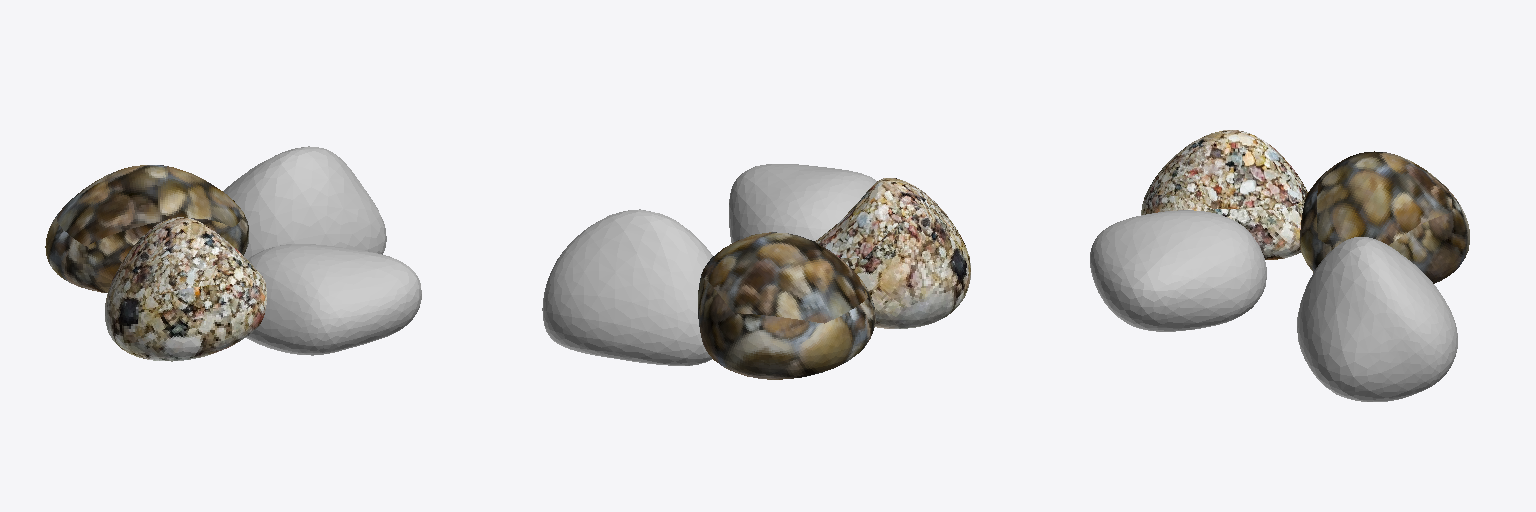
3 renders of one model, left to right at view 1: azimuth 30°, elevation 25°; view 2: azimuth 150°, elevation 25°; view 3: azimuth 270°, elevation 25°, orthographic.
Visible parts, largest first — view 1: Icosphere.005; view 2: Icosphere.005; view 3: Icosphere.005.
Part boxes in pixels (left/top/right/bottom): Icosphere.005: left=45, top=146, right=421, bottom=361; Icosphere.005: left=542, top=164, right=970, bottom=379; Icosphere.005: left=1090, top=130, right=1469, bottom=401.
Bounding box in the file's own units: 1.07 × 0.4788 × 1.07.
4 materials, 2 textured.